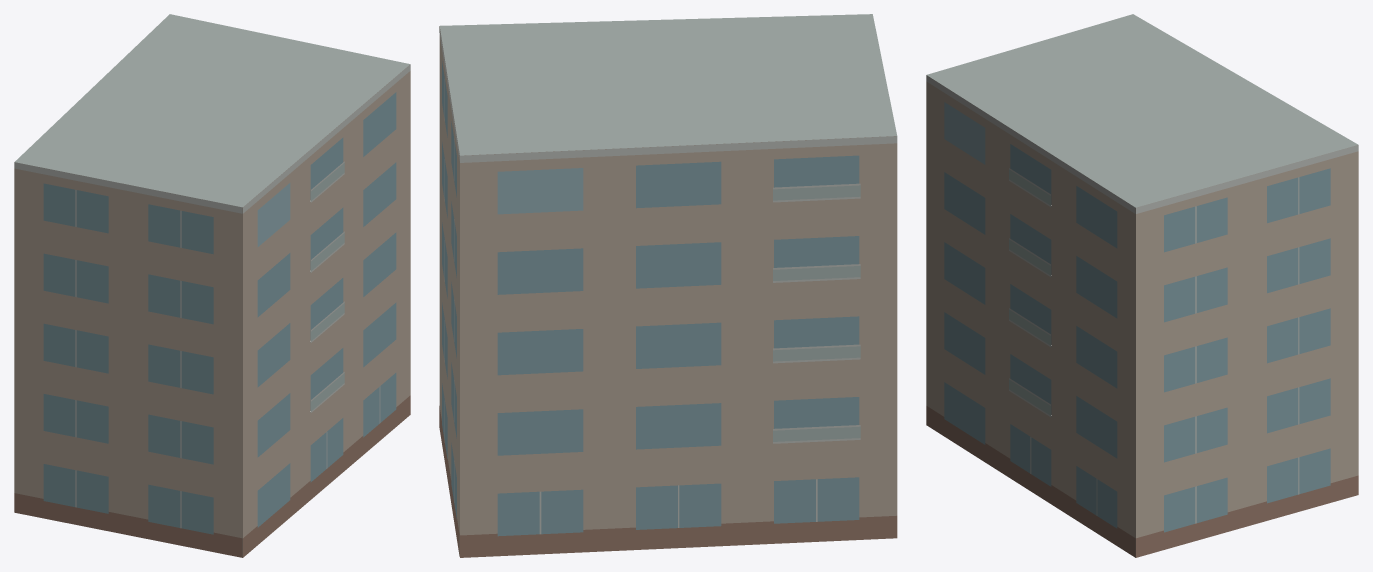
File: survey-upis-32535146.glb
The picture shows the model from 3 angles, left to right: view 1: azimuth 30°, elevation 25°; view 2: azimuth 150°, elevation 25°; view 3: azimuth 270°, elevation 25°; orthographic projection. The views are drawn at different scales.
Visible parts, largest first — view 1: survey-upis-32535146.tmp; view 2: survey-upis-32535146.tmp; view 3: survey-upis-32535146.tmp.
Boxes of the visible parts, bbox=[...] form: survey-upis-32535146.tmp: bbox=[14, 14, 410, 557]; survey-upis-32535146.tmp: bbox=[439, 14, 897, 557]; survey-upis-32535146.tmp: bbox=[926, 14, 1358, 557].
Bounding box in the file's own units: 15.79 × 13.3 × 14.89.
